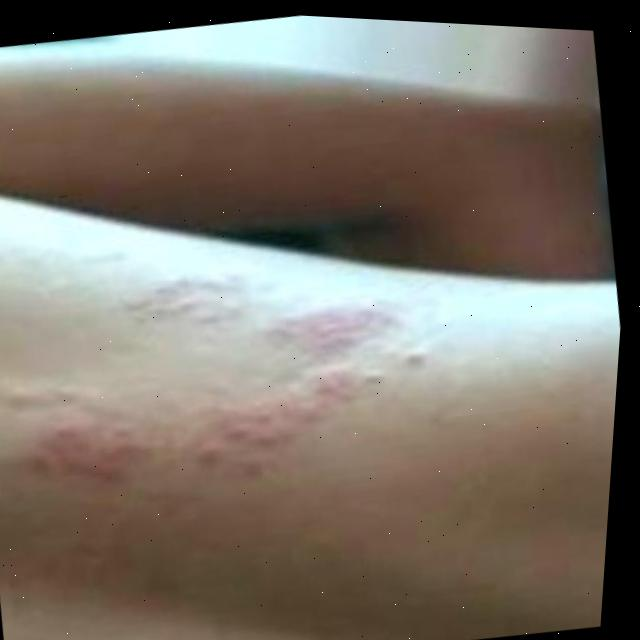Shingles: (0, 229, 423, 515)
